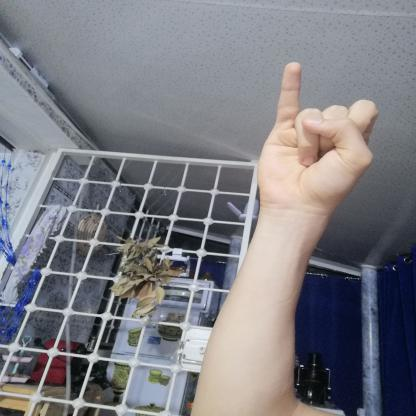MEEM: (237, 51, 392, 225)
